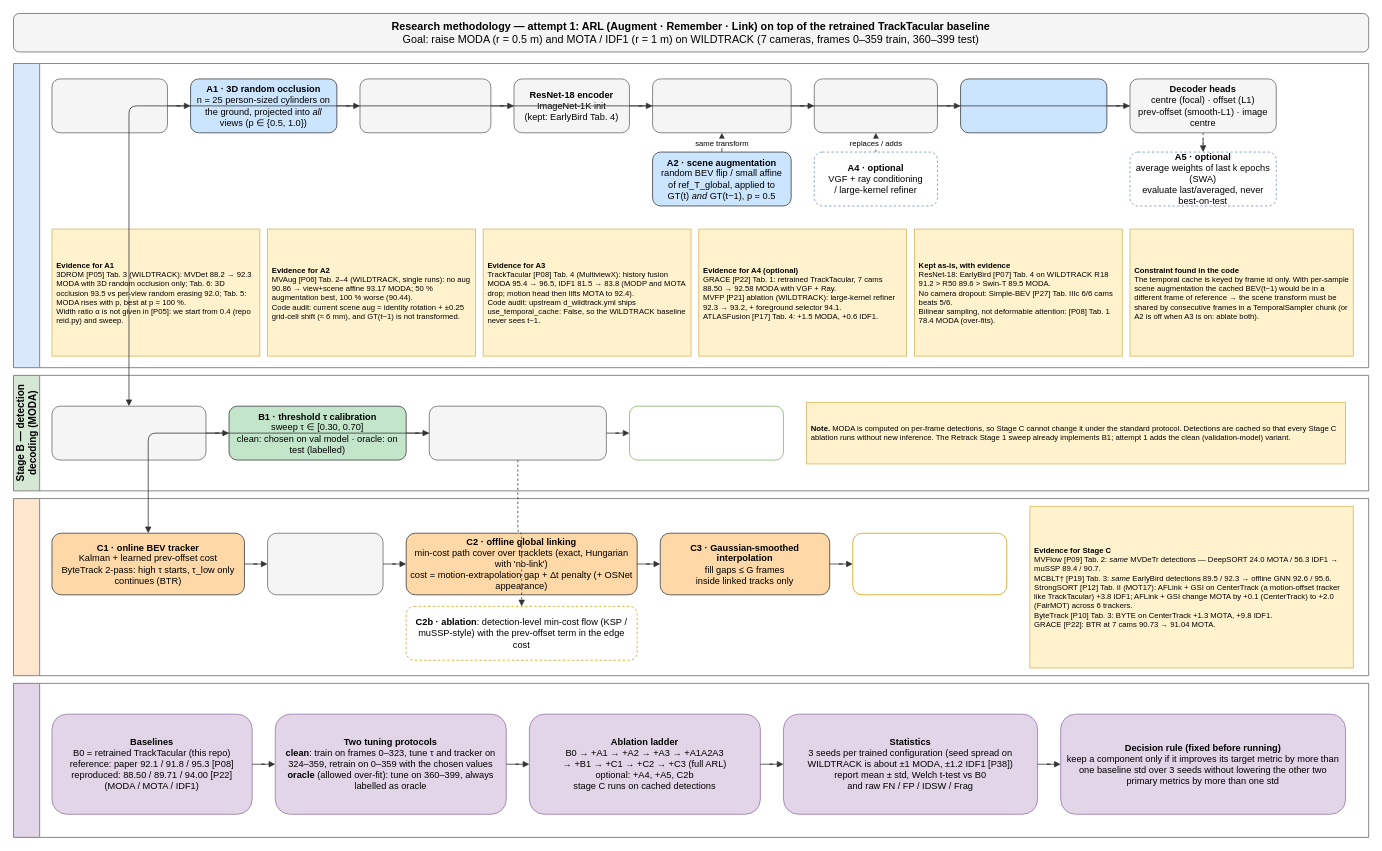
The diagram is 1382 pixels wide and 851 high, and some of its shapes have lost their labels. Each missing label, with the box of its shape:
3×3 max-pool NMS top-K = 60 peaks + sub-cell offset: (51, 405, 206, 460)
7 synchronised views 1080×1920 → 720×1280 + calibration K, [R|t]: (51, 78, 167, 133)
A3 · temporal history ON concat cached BEV(t−1) use_temporal_cache: True: (960, 78, 1107, 133)
Bilinear-sampling lift voxels 120 × 4 × 360 (10 cm × 10 cm × 50 cm): (652, 78, 791, 133)
Concat fusion + BEV compressor (no camera dropout): (814, 78, 937, 133)
MODA / MODP / P / R Hungarian, r = 0.5 m evaluation/mod.py: (629, 405, 783, 460)
MOTA / IDF1 / MOTP py-motmetrics, r = 1 m evaluation/mot_bev.py: (852, 532, 1007, 595)
Per-frame detections { xy, xy_prev, score } cached to disk once per model: (429, 405, 606, 460)
short, high-precision tracklets: (267, 532, 383, 595)
Stage A — detector training (targets MODA, feeds tracking): (13, 63, 1369, 368)
Stage C — association (MOTA, IDF1): (13, 498, 1369, 676)
Stage D — experimental protocol: (13, 683, 1369, 837)
View augmentation resize ∈ [0.8, 1.2] + crop, K adjusted (existing): (359, 78, 491, 133)
